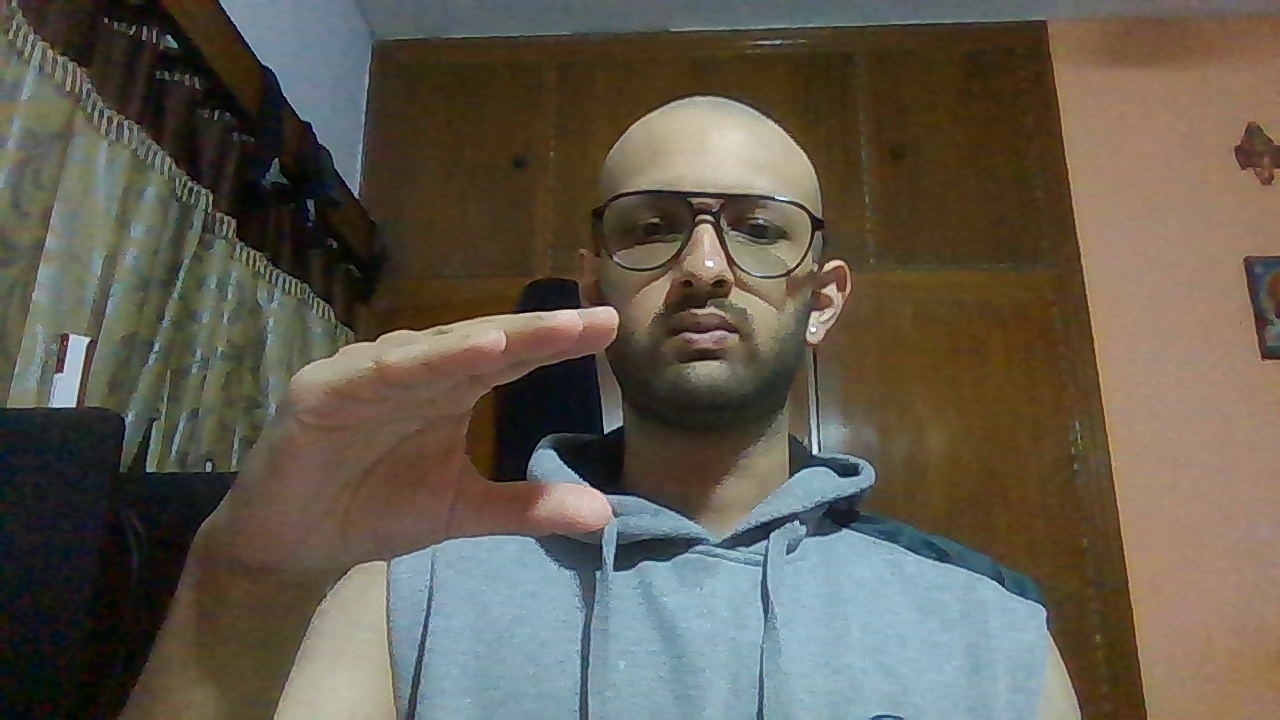No: (208, 304, 619, 575)
